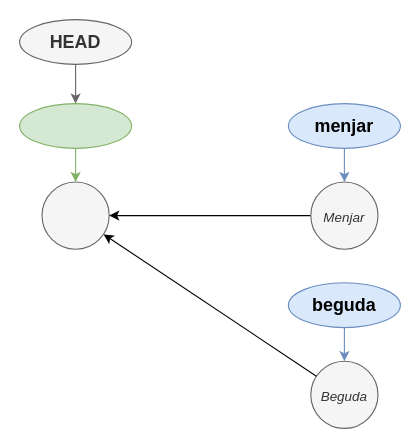
The diagram is 420 pixels wide and 448 high, and some of its shapes have lost their labels. The shapes that lost their labels are listed below. From the top down, each one's centre as x and y in pixels, then its label:
At [75,125]: "main".
At [75,215]: "Commit inicial".
